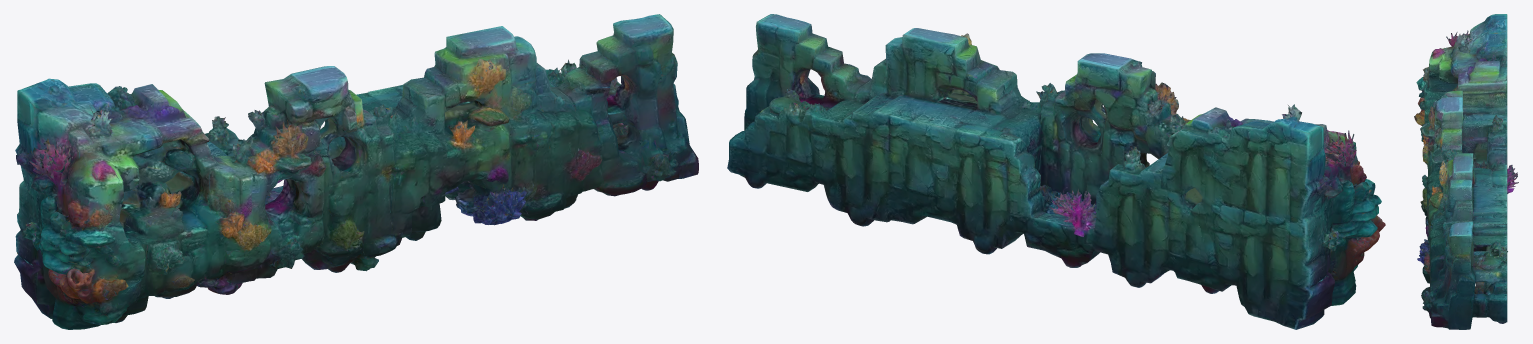
Rendered from submerged_coral_citadel.glb.
3 views of the same model, side by side, from view 1: azimuth 30°, elevation 25°; view 2: azimuth 150°, elevation 25°; view 3: azimuth 270°, elevation 25° (orthographic). The views are drawn at different scales.
Visible parts, largest first — view 1: Mesh1.0; view 2: Mesh1.0; view 3: Mesh1.0.
Boxes of the visible parts, box(x1,y1,x2,y2) form: Mesh1.0: box(14, 14, 698, 329); Mesh1.0: box(727, 14, 1385, 329); Mesh1.0: box(1414, 14, 1518, 329).
Bounding box in the file's own units: 1.91 × 0.6271 × 0.4244.
1 material, 1 textured.
